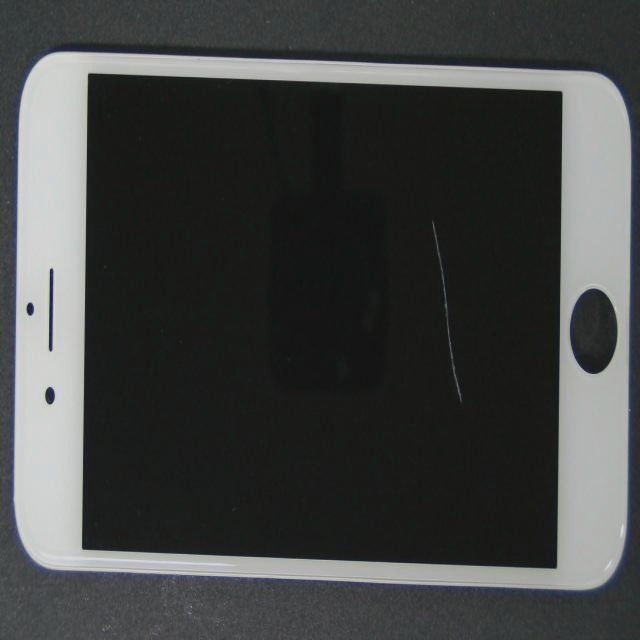scratch: (253, 315, 640, 511)
